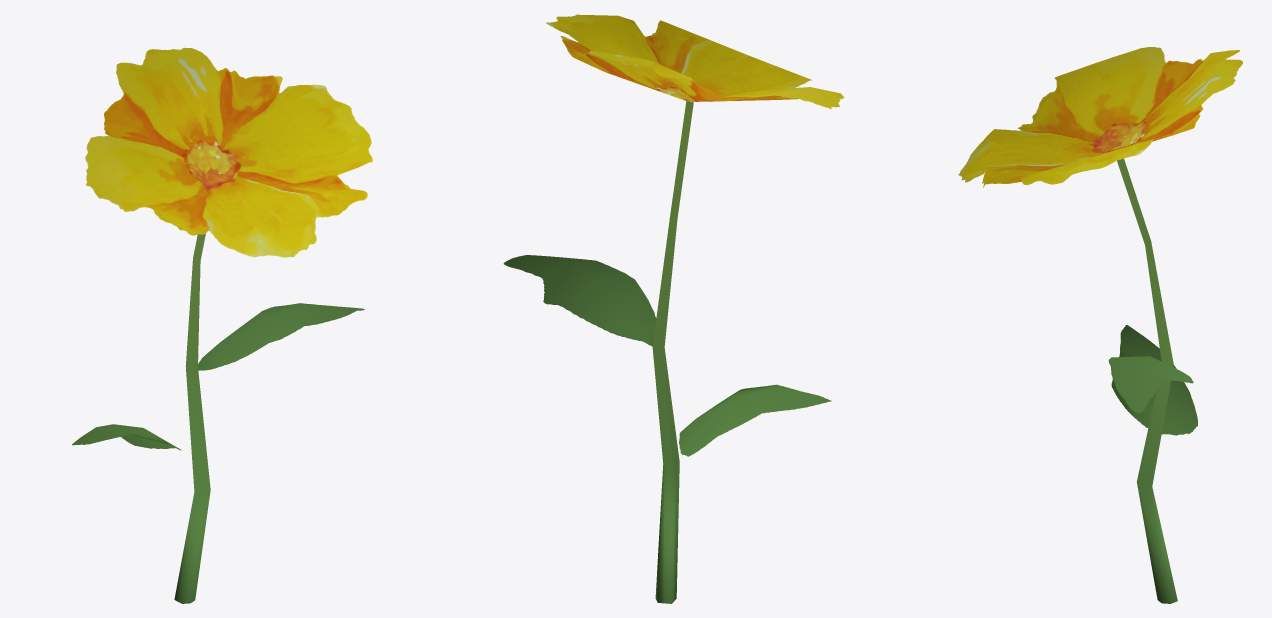
Rendered from FlowerG_VAR.fbx.
3 views of the same model, side by side, from view 1: azimuth 30°, elevation 25°; view 2: azimuth 150°, elevation 25°; view 3: azimuth 270°, elevation 25° (orthographic). The views are drawn at different scales.
Visible parts, largest first — view 1: FloweG_VARLOD0; view 2: FloweG_VARLOD0; view 3: FloweG_VARLOD0.
Boxes of the visible parts, x1,y1,x2,y2 form: FloweG_VARLOD0: [72, 47, 372, 603]; FloweG_VARLOD0: [503, 14, 844, 603]; FloweG_VARLOD0: [958, 47, 1242, 603].
Size of what is drawn, in the model's own units: 28.76 by 42.32 by 21.7.
